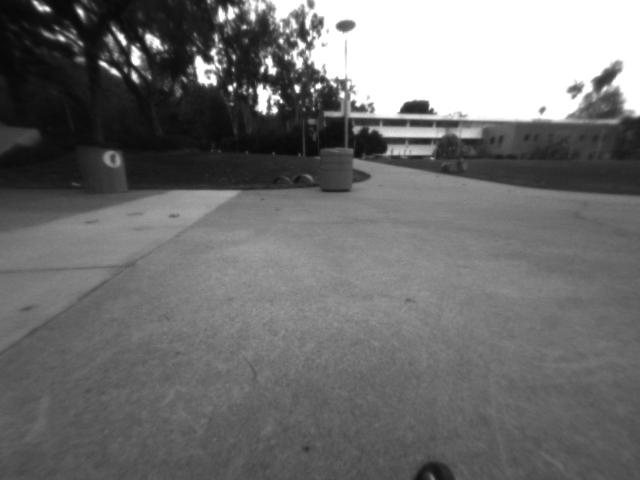trashcan: (63, 140, 132, 196)
